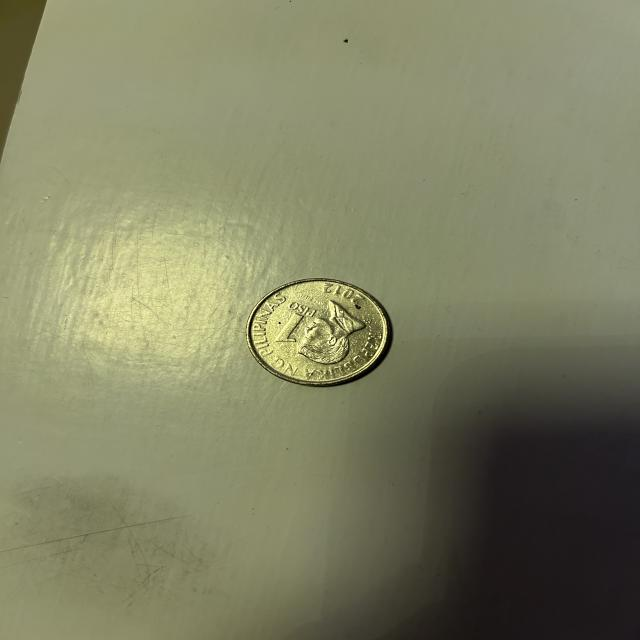1_Old_Front: (270, 302, 319, 342)
